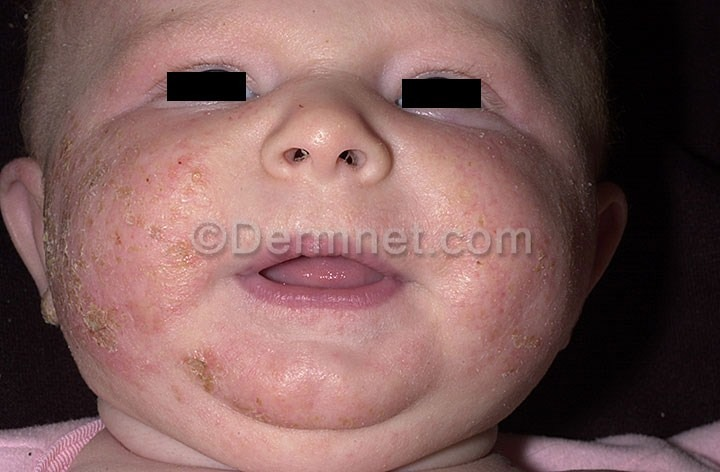Eczema: (36, 123, 229, 423), (412, 114, 595, 385)
